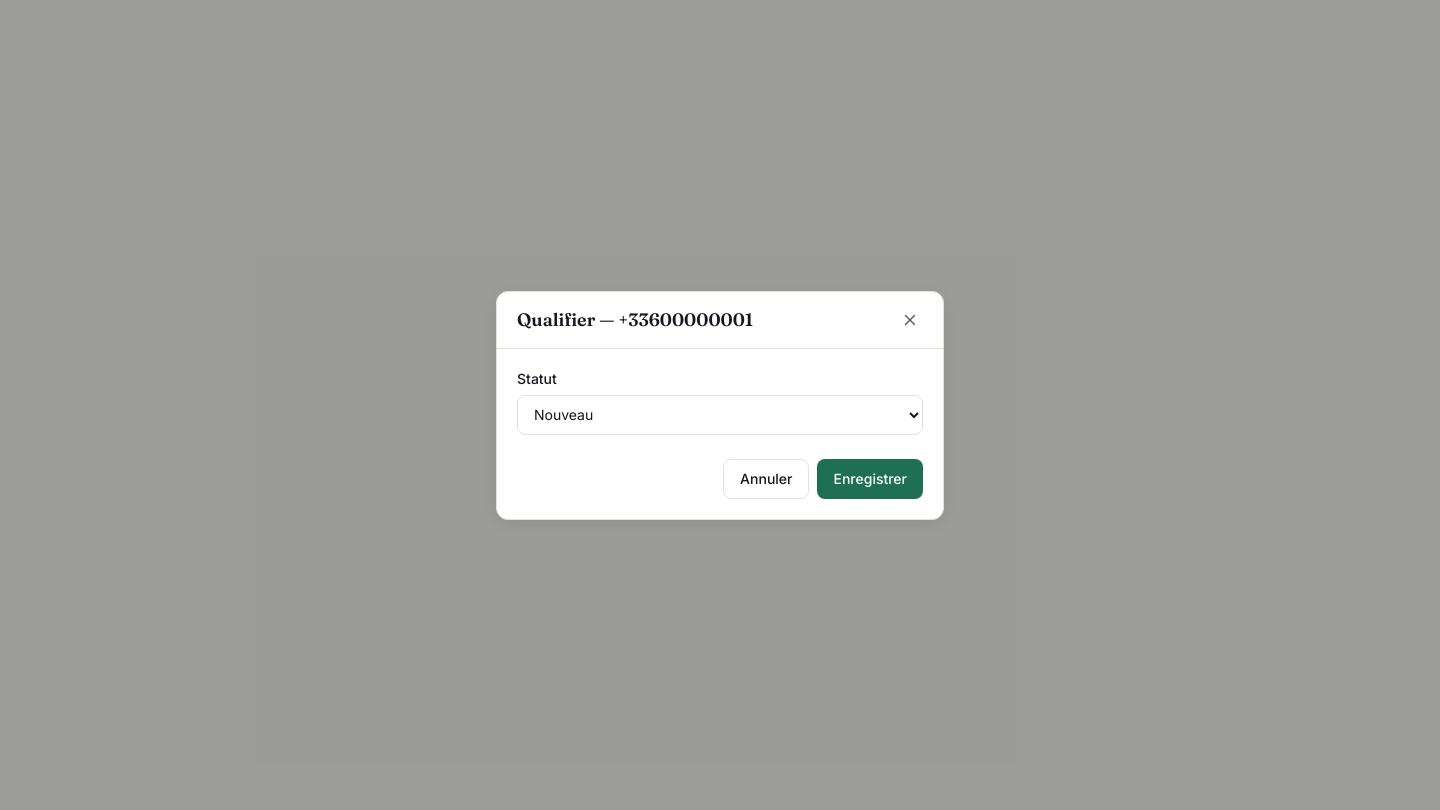
Scenario: §6.25 lot C — bascule qualification → dossier › la bascule ne déclenche pas la confirmation et ne ferme rien
Select "RDV à planifier" in the dropdown labelled "Statut" at (720, 414), box [517, 394, 923, 434]
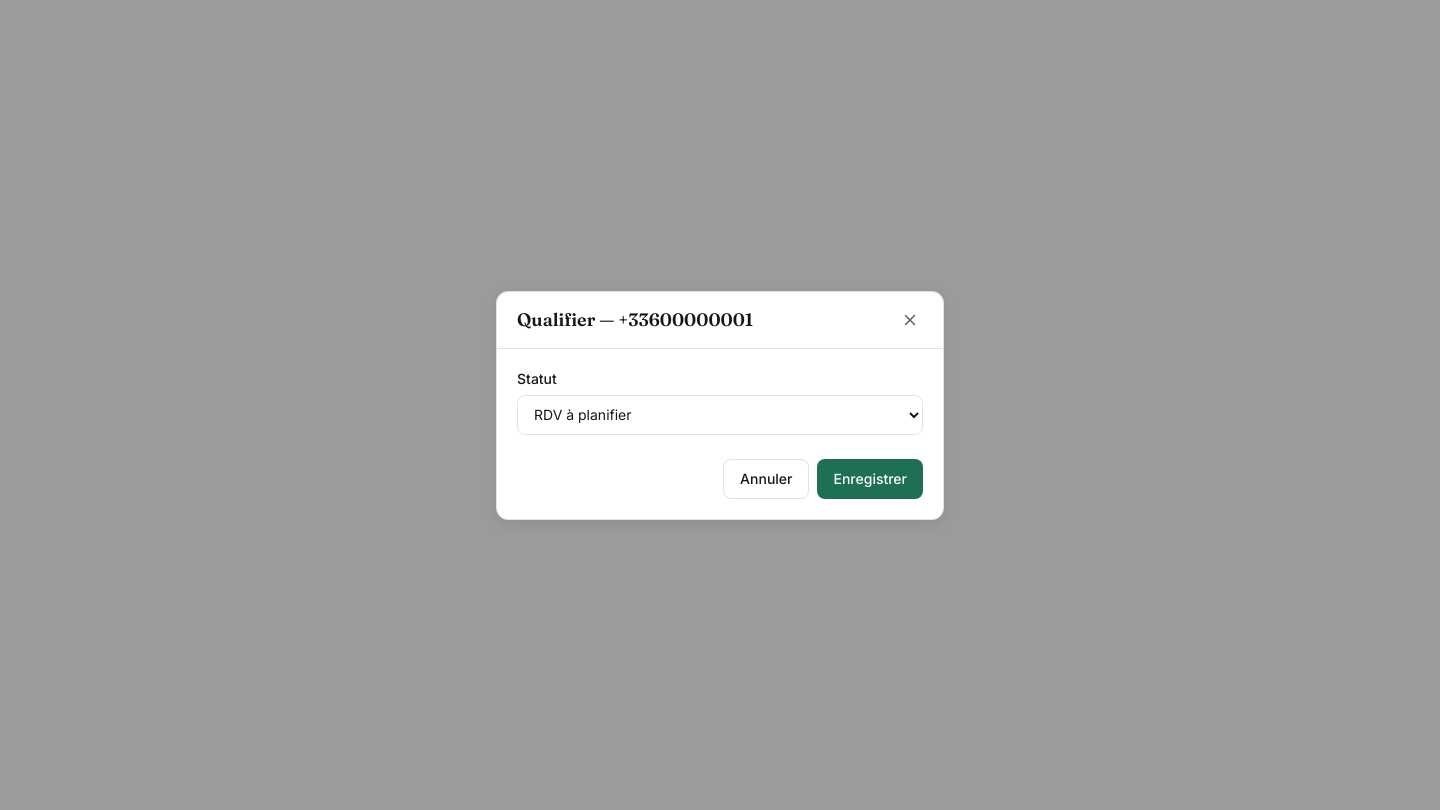
Click the button "Enregistrer".
click(870, 478)  # box [818, 458, 923, 498]
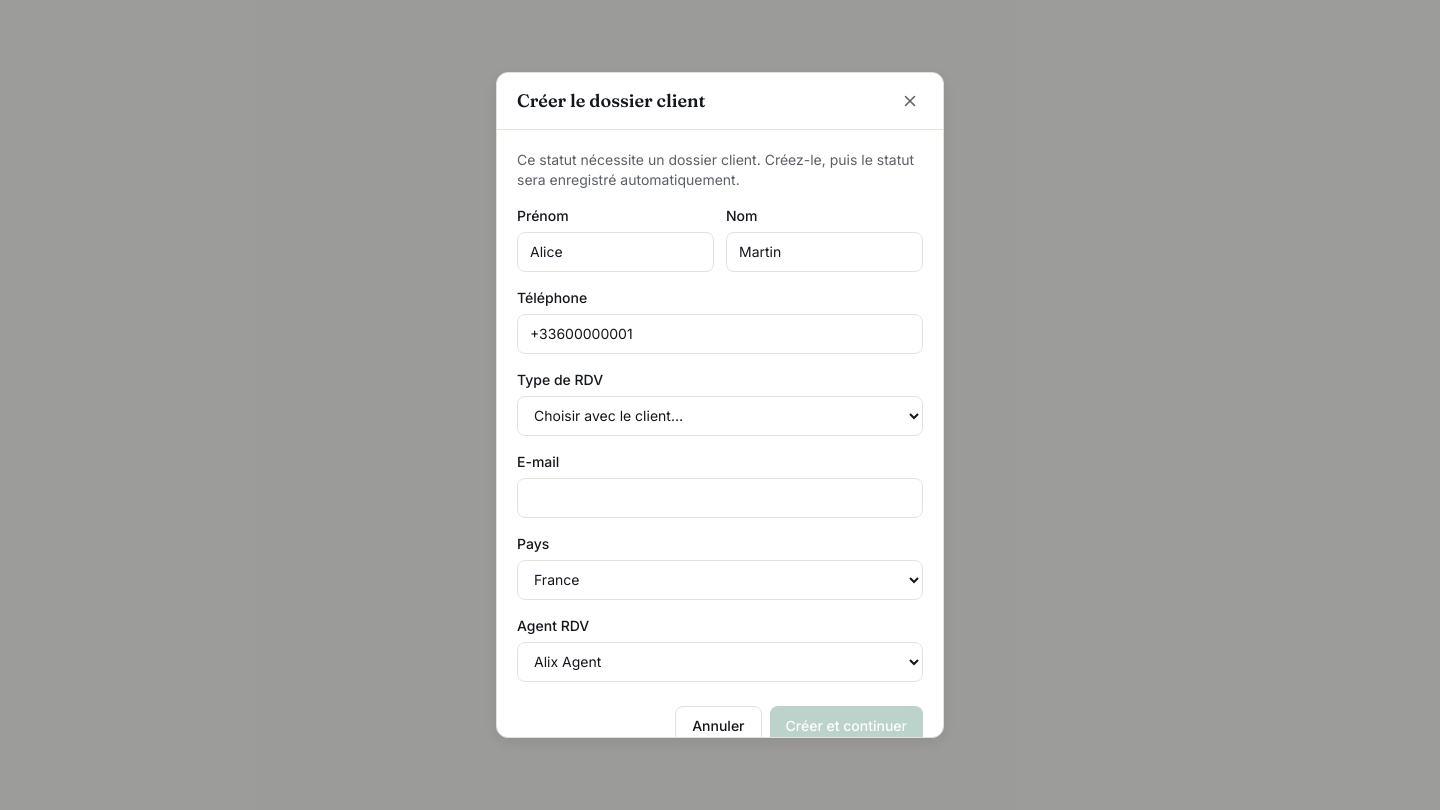
expect the heading "Créer le dossier client" is shown: met, box [517, 87, 706, 115]
expect the dropdown labelled "Agent RDV" shows "Alix Agent": met, box [517, 642, 923, 682]
